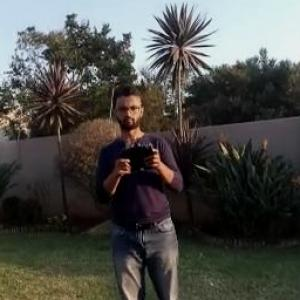follow: (88, 72, 192, 298)
